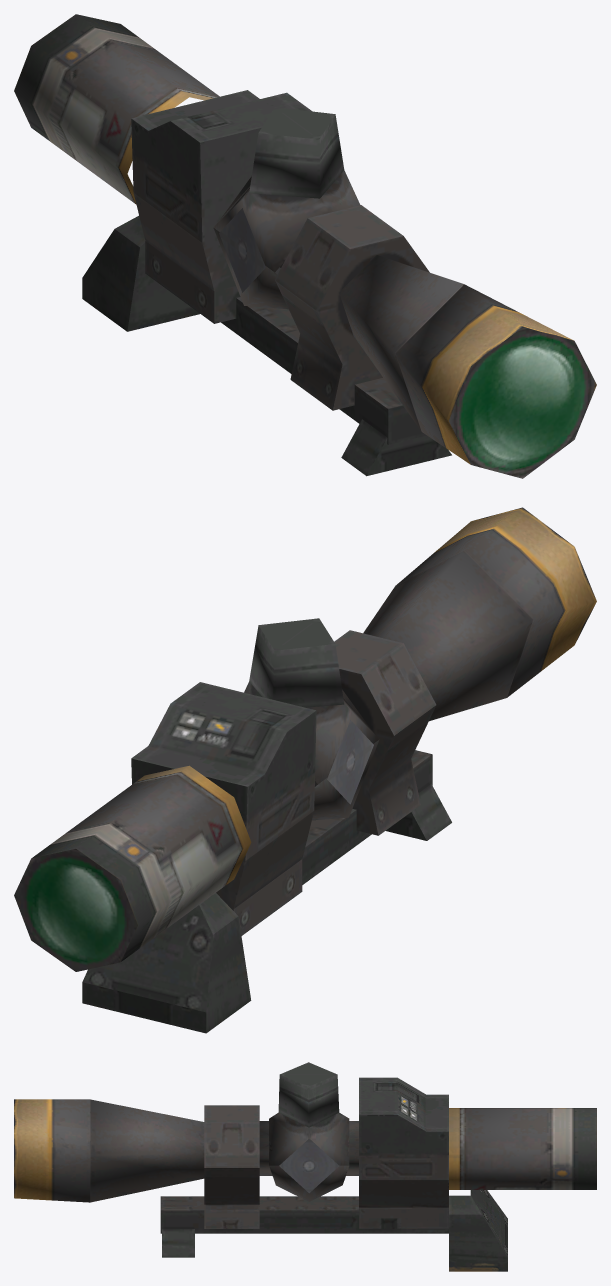
File: Sniper_Rifle_jjq_jmj_03_lod2_Sniper_Scope_LOD_(000358).glb
The picture shows the model from 3 angles, top to bottom: view 1: azimuth 30°, elevation 25°; view 2: azimuth 150°, elevation 25°; view 3: azimuth 270°, elevation 25°; orthographic projection. The views are drawn at different scales.
Parts seen in each view (by area): view 1: jjq_jmj_03_lod2; view 2: jjq_jmj_03_lod2; view 3: jjq_jmj_03_lod2.
Part boxes in pixels (x1,y1,x2,y2): jjq_jmj_03_lod2: (14,14,596,478); jjq_jmj_03_lod2: (14,507,596,1033); jjq_jmj_03_lod2: (14,1062,596,1271).
Bounding box in the file's own units: 0.0645 × 0.1131 × 0.3367.
Materials: 1 (1 with a texture image).
